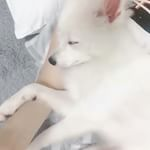puppy: (46, 1, 132, 72)
